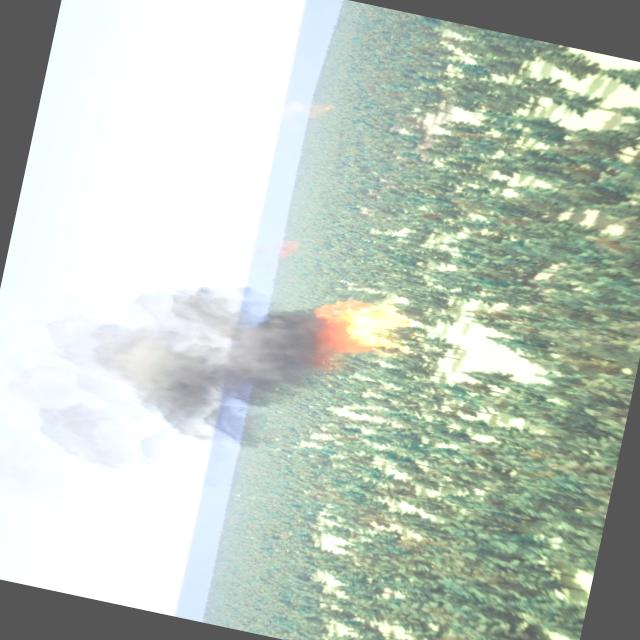fire: (318, 282, 406, 371)
smoke: (0, 234, 322, 509), (282, 96, 332, 124), (260, 232, 298, 265)
